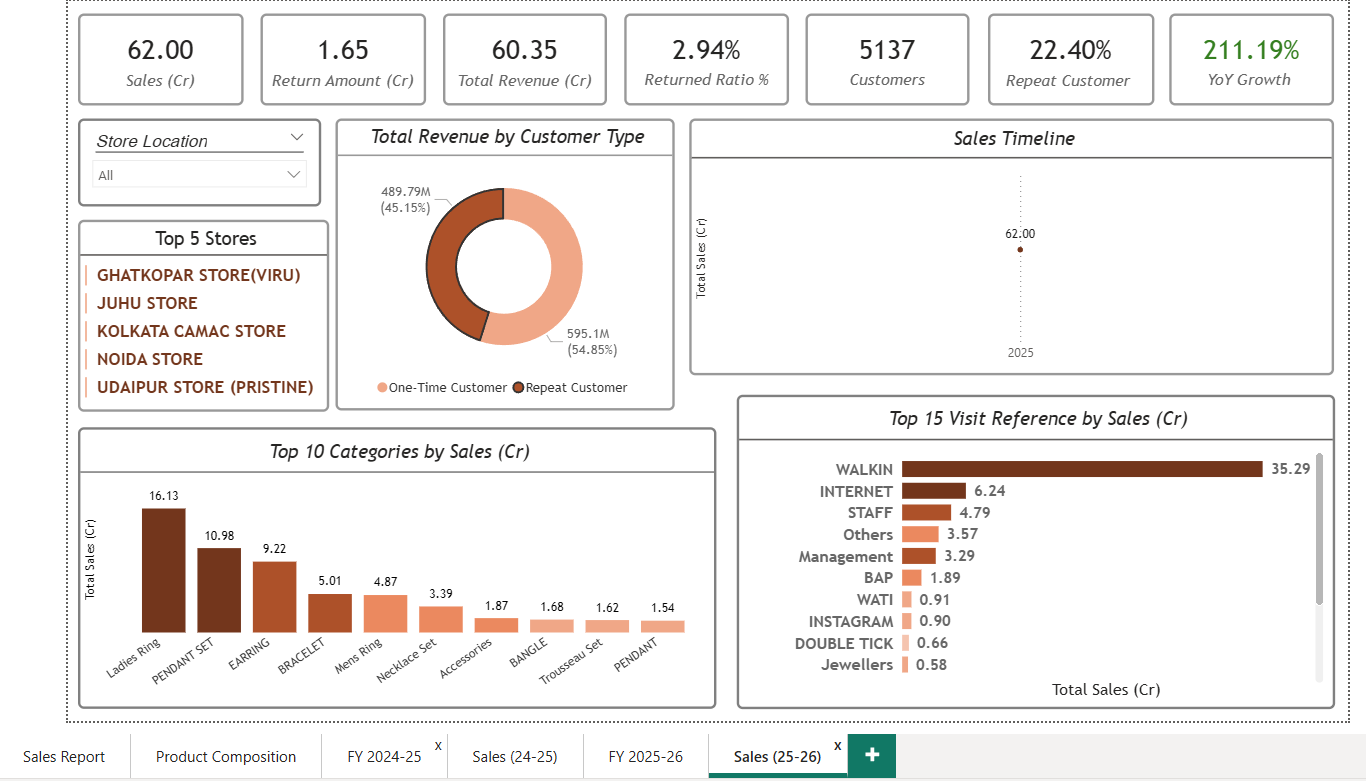

The dashboard page shown, as its layout file describes it:
{"tool":"powerbi","page":{"name":"Sales (25-26)","canvas":[1280,720],"ordinal":5},"visuals":[{"type":"card","fields":{"Values":["Table1.Scaled Total Revenue"]},"box":[9.8,12.1,165.6,91.8],"z":0,"group":"g1"},{"type":"slicer","fields":{"Values":["Table1.Location"]},"box":[9.8,118.6,250.7,86.8],"z":0},{"type":"card","fields":{"Values":["Count(Table1.Customer)"]},"box":[737.8,12,163.9,91.7],"z":1000,"group":"g1"},{"type":"barChart","title":"Top 15 Visit Reference by Sales (Cr)","fields":{"Category":["Table1.CustVisitRef"],"Y":["Table1.Scaled Total Revenue"]},"box":[668.3,393.8,598.3,314.2],"z":1000},{"type":"card","fields":{"Values":["Customer_Summary.repeat customer %"]},"box":[920,12,166,92],"z":2000,"group":"g1"},{"type":"lineChart","title":"Sales Timeline","fields":{"Category":["Date Table.Date.Variation.Date Hierarchy.Year","Date Table.Date.Variation.Date Hierarchy.Quarter","Date Table.Date.Variation.Date Hierarchy.Month","Date Table.Date.Variation.Date Hierarchy.Day"],"Y":["Table1.Scaled Total Revenue"]},"box":[621.6,118,644.9,256.6],"z":2000},{"type":"card","fields":{"Values":["Table1.YoY Growth %"]},"box":[1100.6,12,165.1,91.7],"z":3000,"group":"g1"},{"type":"donutChart","fields":{"Category":["Customer_Summary.Customer Type"],"Y":["Sum(Customer_Summary.TotalRevenue)"]},"box":[267.6,118,338.9,292.3],"z":3000},{"type":"card","fields":{"Values":["Sales.Scaled Return amount"]},"box":[192.3,12.1,165.6,91.8],"z":4000,"group":"g1"},{"type":"columnChart","title":"Top 10 Categories by Sales (Cr)","fields":{"Category":["Table1.Category"],"Y":["Table1.Scaled Total Revenue"]},"box":[9.8,426.8,638.3,281.3],"z":4000},{"type":"card","fields":{"Values":["Sales.Total Revenue"]},"box":[374.8,12.1,164.2,91.8],"z":5000,"group":"g1"},{"type":"card","fields":{"Values":["Sales.Returned Ratio %"]},"box":[555.8,12,165.1,91.7],"z":6000,"group":"g1"},{"type":"multiRowCard","title":"Top 5 Stores ","fields":{"Values":["Sales.Location"]},"box":[9.6,218.2,251.1,192.1],"z":6000},{"type":"group","id":"g1","title":"Group 1","box":[9.8,12,1255.9,92],"z":7000}]}

Visuals, with their boxes on the page's 1280x720 design canvas (x1, y1, x2, y2). These are canvas units, not pixel positions in the 1366x781 screenshot, which may show the page scaled, cropped or inside an application window:
card - Table1.Scaled Total Revenue: [x1=10, y1=12, x2=175, y2=104]
slicer - Table1.Location: [x1=10, y1=119, x2=260, y2=205]
card - Count(Table1.Customer): [x1=738, y1=12, x2=902, y2=104]
"Top 15 Visit Reference by Sales (Cr)" barChart: [x1=668, y1=394, x2=1267, y2=708]
card - Customer_Summary.repeat customer %: [x1=920, y1=12, x2=1086, y2=104]
"Sales Timeline" lineChart: [x1=622, y1=118, x2=1266, y2=375]
card - Table1.YoY Growth %: [x1=1101, y1=12, x2=1266, y2=104]
donutChart - Customer_Summary.Customer Type x Sum(Customer_Summary.TotalRevenue): [x1=268, y1=118, x2=606, y2=410]
card - Sales.Scaled Return amount: [x1=192, y1=12, x2=358, y2=104]
"Top 10 Categories by Sales (Cr)" columnChart: [x1=10, y1=427, x2=648, y2=708]
card - Sales.Total Revenue: [x1=375, y1=12, x2=539, y2=104]
card - Sales.Returned Ratio %: [x1=556, y1=12, x2=721, y2=104]
"Top 5 Stores " multiRowCard: [x1=10, y1=218, x2=261, y2=410]
"Group 1" group: [x1=10, y1=12, x2=1266, y2=104]
